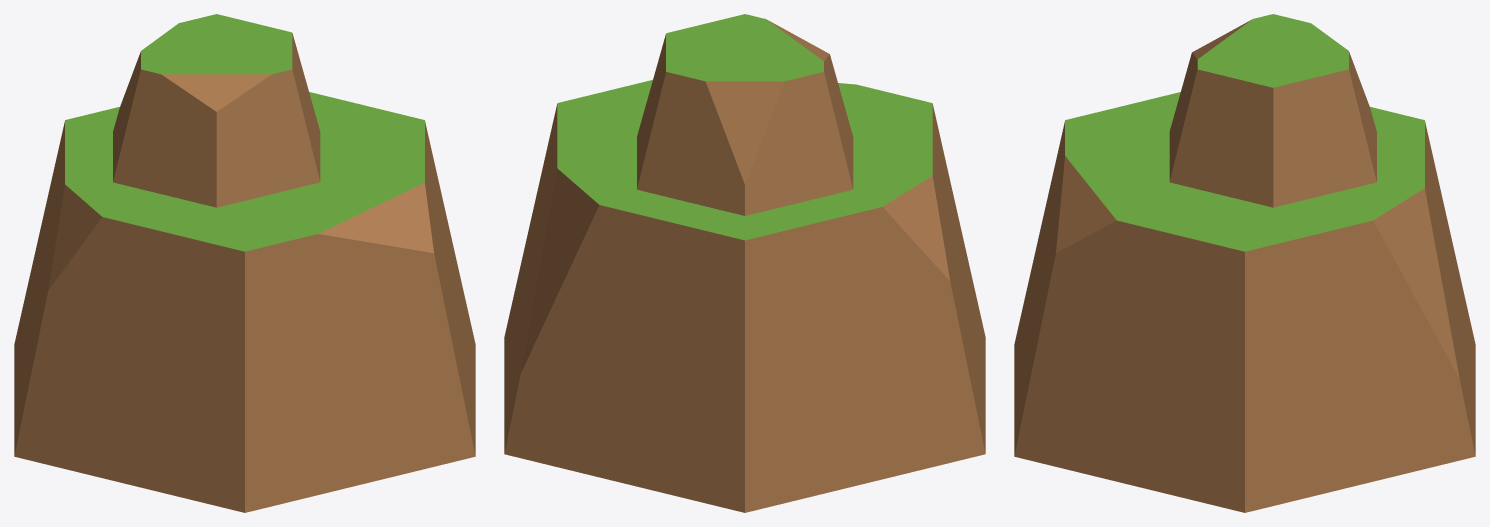
Rendered from rock_smallE.glb.
The picture shows the model from 3 angles, left to right: view 1: azimuth 30°, elevation 25°; view 2: azimuth 150°, elevation 25°; view 3: azimuth 270°, elevation 25°; orthographic projection. The views are drawn at different scales.
Visible parts, largest first — view 1: rock_smallE; view 2: rock_smallE; view 3: rock_smallE.
Part boxes in pixels (left/top/right/bottom): rock_smallE: left=14, top=14, right=475, bottom=512; rock_smallE: left=504, top=14, right=985, bottom=512; rock_smallE: left=1014, top=14, right=1475, bottom=512.
Size of the model in its own units: 0.3608 by 0.2562 by 0.3125.
